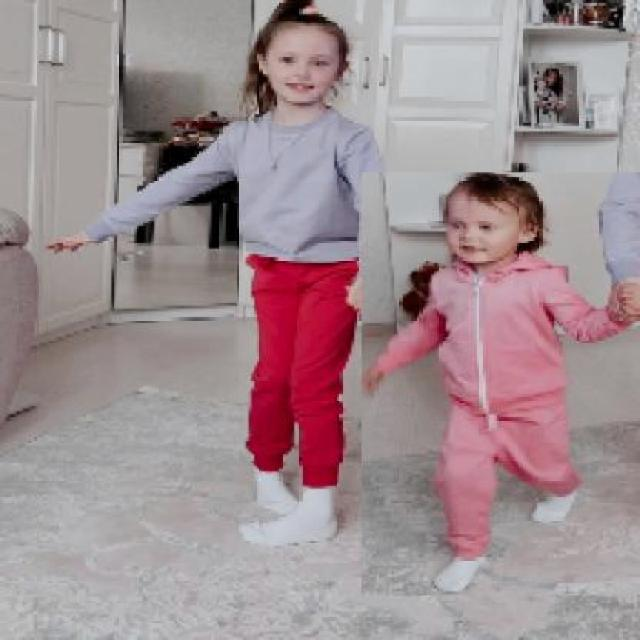child: (46, 1, 403, 548), (360, 172, 640, 597)
